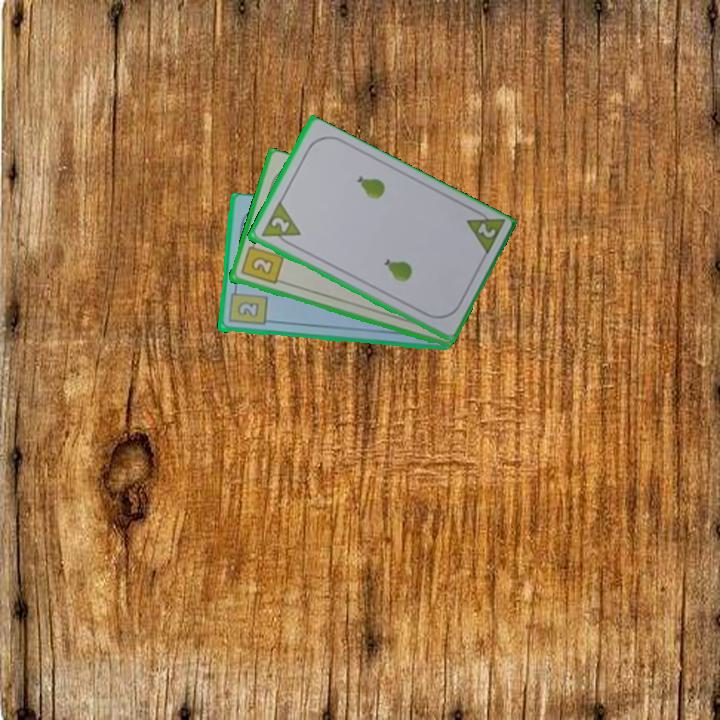2b: (237, 237, 286, 287), (225, 284, 269, 328)
2p: (462, 204, 507, 260), (257, 199, 303, 250)
